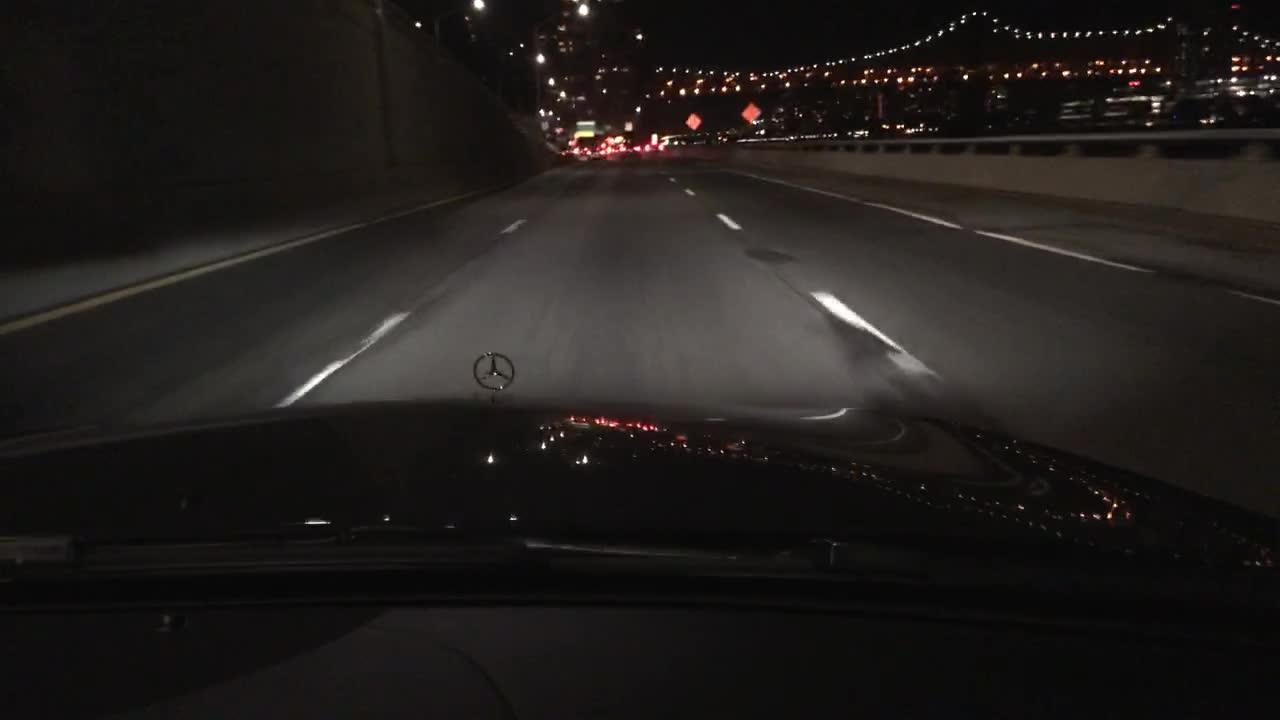Mercedes: (473, 349, 516, 393)
